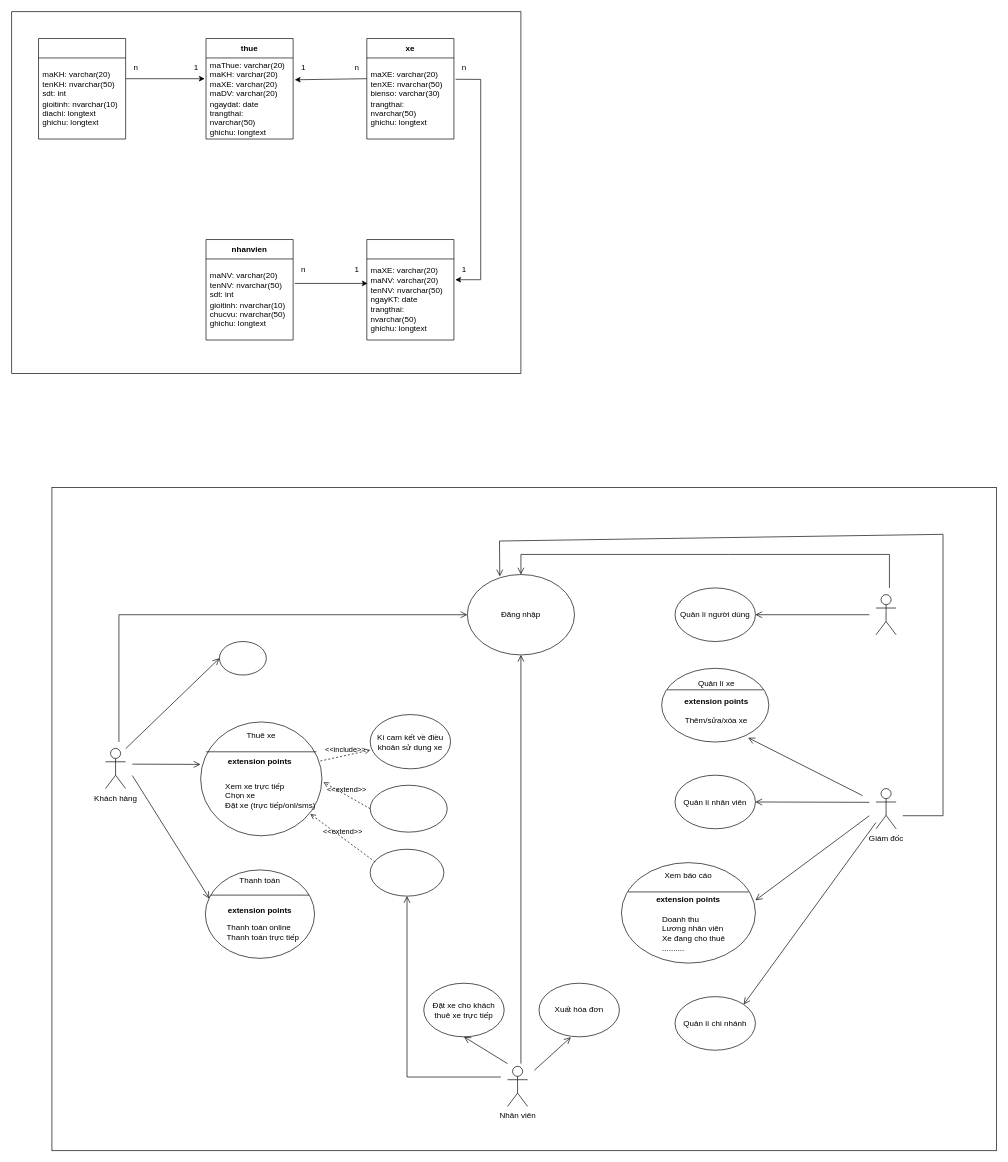
Image size: 1008x1162. Some labels were removed from this diagram. The box of each missing label's shape, as (x1, y1, x2, y2) in pixels:
Admin: (875, 594, 896, 635)
Hủy xe: (370, 849, 444, 896)
khachhang: (38, 38, 126, 139)
kiemtra: (366, 239, 454, 340)
Thuê thêm người lái: (370, 785, 447, 832)
Đăng kí: (219, 641, 266, 675)
